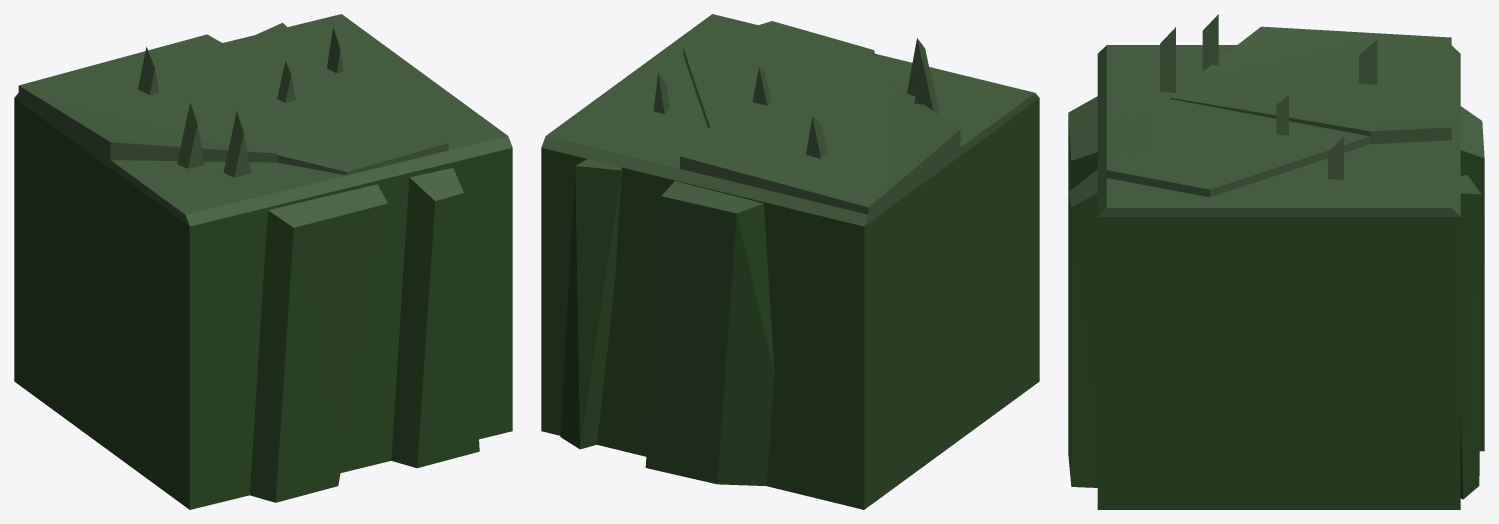
File: WallGrass.FBX
The picture shows the model from 3 angles, left to right: view 1: azimuth 30°, elevation 25°; view 2: azimuth 150°, elevation 25°; view 3: azimuth 270°, elevation 25°; orthographic projection. The views are drawn at different scales.
Parts seen in each view (by area): view 1: grass; view 2: grass; view 3: grass.
Boxes of the visible parts, <box> form: grass: <box>14,14,512,509</box>; grass: <box>541,14,1039,509</box>; grass: <box>1068,14,1484,509</box>.
Bounding box in the file's own units: 40.96 × 42.52 × 44.22.
